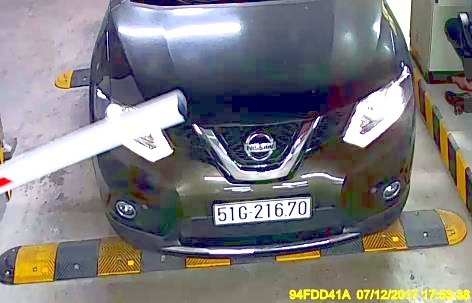plate: (211, 194, 316, 230)
